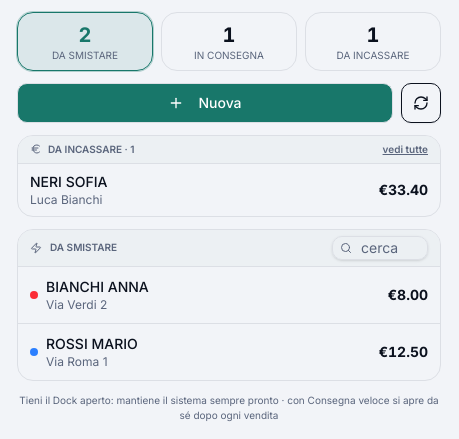
Test case: Dock: i contatori sono filtri veri › tornando su "Da smistare" la coda riappare, con la sua ricerca
The image size is (459, 439).
Click the button with test id "dock-contatore-incassare". click: (373, 41)
box: [305,12,441,70]
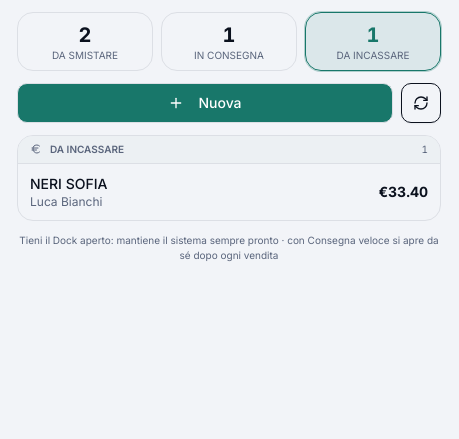
Click the button with test id "dock-contatore-smistare". click: (85, 41)
box: [17,12,153,70]
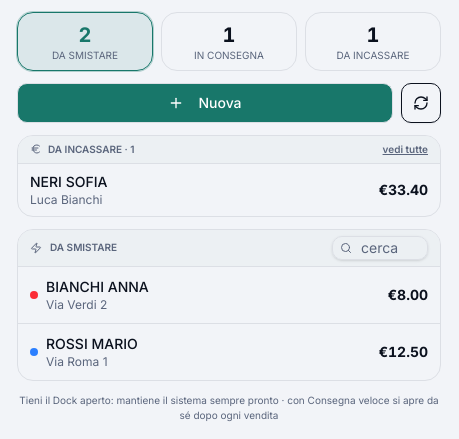
expect the element with test id "dock-elenco-smistare" shows "ROSSI MARIO": met, box [18,322,440,380]
expect the element with test id "dock-elenco-smistare" shows "BIANCHI ANNA": met, box [18,266,440,322]
